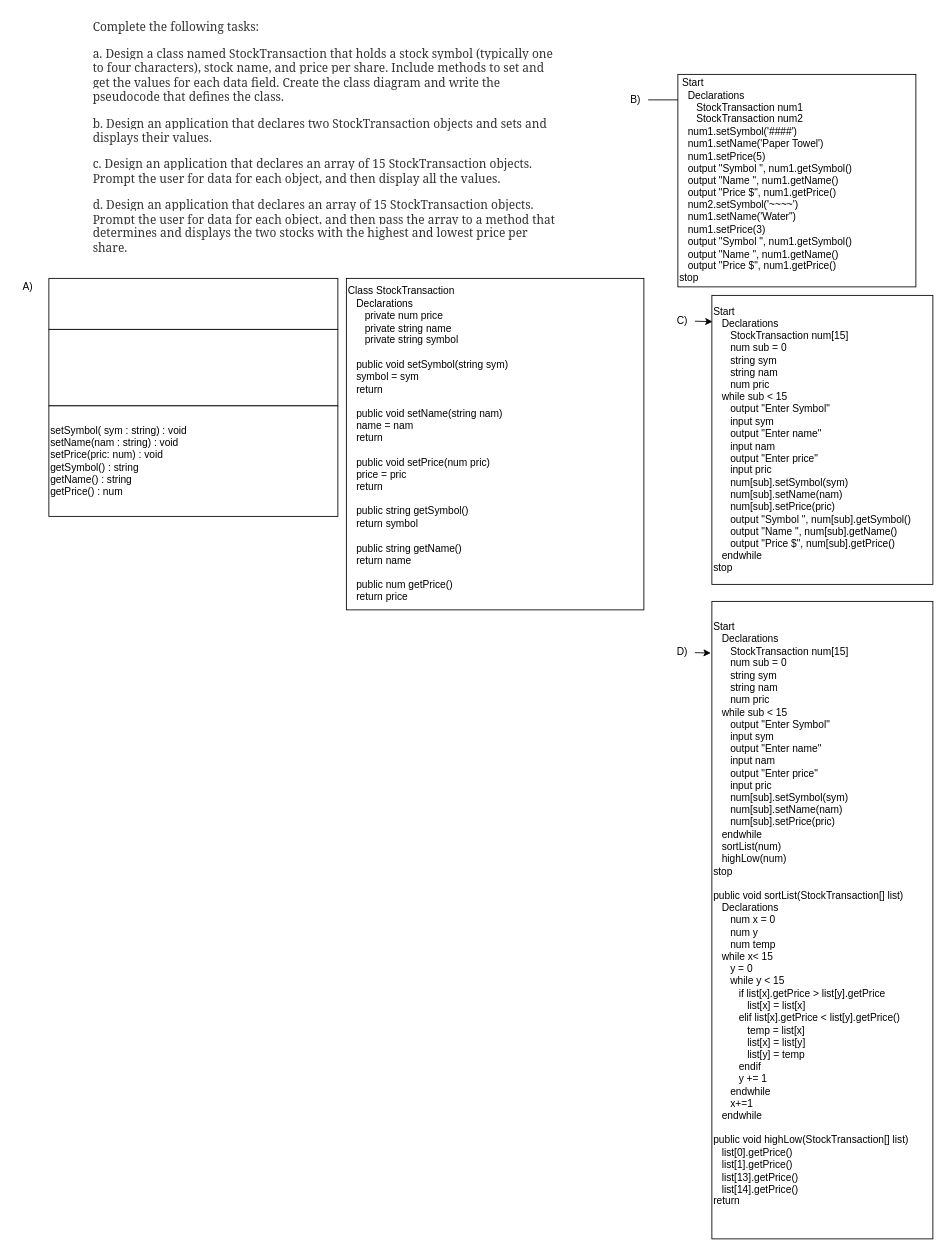
This 948x1254 diagram has some shape labels left out. The box of each missing label's shape, as (x1, y1, x2, y2) in pixels:
StockTransaction: (48, 278, 338, 329)
symbol : string name : string price : num: (48, 329, 338, 406)
